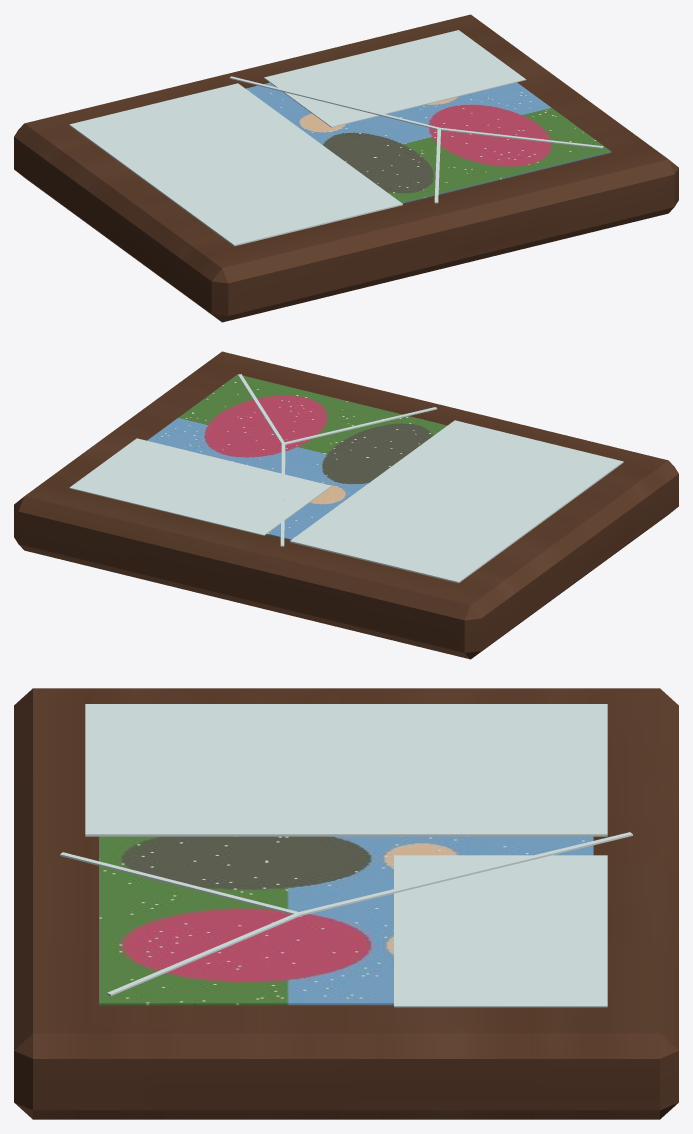
The model's file is porta_retrato.glb.
3 renders of one model, top to bottom at view 1: azimuth 30°, elevation 25°; view 2: azimuth 150°, elevation 25°; view 3: azimuth 270°, elevation 25°, orthographic. The views are drawn at different scales.
Parts seen in each view (by area): view 1: porta_retrato_madeira_escura, porta_retrato_vidro_caco, porta_retrato_foto_retrato; view 2: porta_retrato_madeira_escura, porta_retrato_vidro_caco, porta_retrato_foto_retrato; view 3: porta_retrato_madeira_escura, porta_retrato_vidro_caco, porta_retrato_foto_retrato.
Boxes of the visible parts, <box> form: porta_retrato_madeira_escura: <box>14,14,678,322</box>; porta_retrato_vidro_caco: <box>69,30,603,246</box>; porta_retrato_foto_retrato: <box>245,82,611,203</box>; porta_retrato_madeira_escura: <box>14,351,678,659</box>; porta_retrato_vidro_caco: <box>69,374,623,583</box>; porta_retrato_foto_retrato: <box>147,374,447,540</box>; porta_retrato_madeira_escura: <box>14,688,678,1119</box>; porta_retrato_vidro_caco: <box>60,704,632,1007</box>; porta_retrato_foto_retrato: <box>99,836,593,1005</box>.
Size of the model in its own units: 0.18 by 0.0218 by 0.14.
3 materials, 2 textured.
